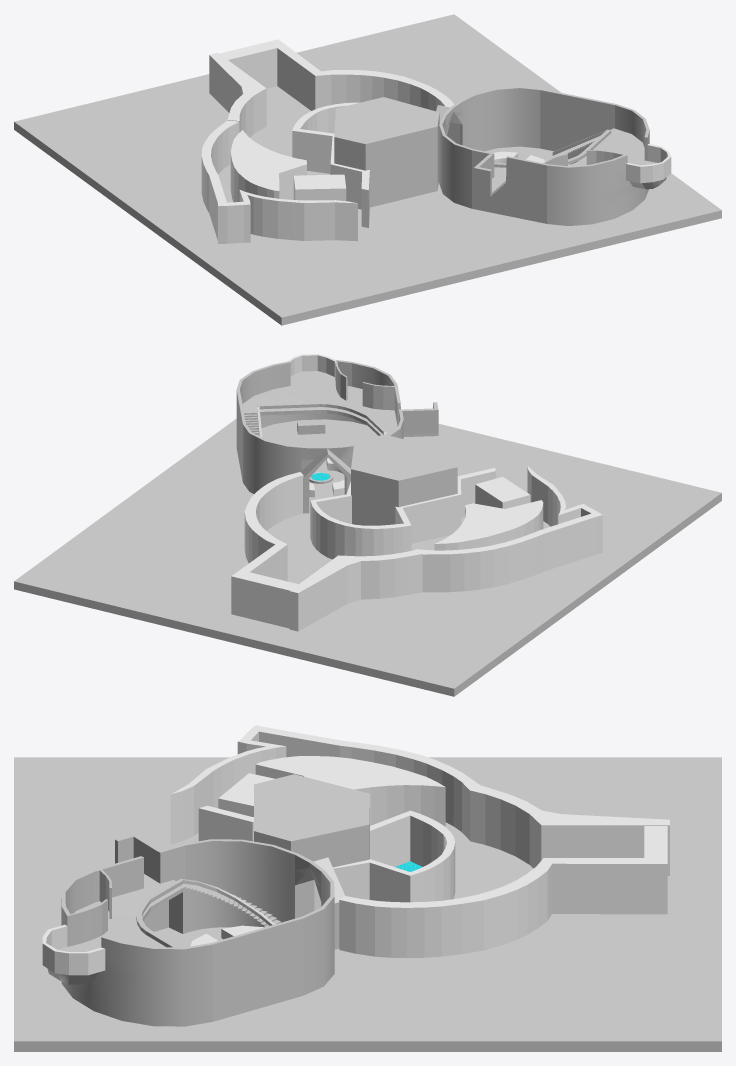
The model's file is NEW Map Greybox.fbx.
3 renders of one model, top to bottom at view 1: azimuth 30°, elevation 25°; view 2: azimuth 150°, elevation 25°; view 3: azimuth 270°, elevation 25°, orthographic. The views are drawn at different scales.
Visible parts, largest first — view 1: Floor, Cathedral_Form, Facility, Outer_Mail_Area, West_Entrance, Mail_Block, East_Center_Area, East_Entrance, Entrance, Mail_Room, Balcony_Railway, Cathedral_Elevator; view 2: Floor, Cathedral_Form, Outer_Mail_Area, Facility, East_Entrance, East_Center_Area, West_Entrance, Mail_Block, Entrance, West_Center_Area, Mail_Room, Cathedral_Elevator (+3 smaller); view 3: Floor, Cathedral_Form, West_Entrance, Outer_Mail_Area, East_Entrance, Facility, Mail_Block, East_Center_Area, West_Center_Area, Curved_Stairs, Balcony_Railway, Cathedral_Elevator (+4 smaller).
Boxes of the visible parts, left/top/right/bottom form: Floor: left=14, top=14, right=721, bottom=325; Cathedral_Form: left=436, top=86, right=666, bottom=225; Facility: left=334, top=97, right=439, bottom=207; Outer_Mail_Area: left=201, top=120, right=357, bottom=243; West_Entrance: left=269, top=39, right=454, bottom=111; Mail_Block: left=230, top=130, right=306, bottom=202; East_Center_Area: left=292, top=109, right=369, bottom=227; East_Entrance: left=209, top=52, right=266, bottom=137; Entrance: left=219, top=40, right=283, bottom=88; Mail_Room: left=293, top=174, right=346, bottom=200; Balcony_Railway: left=626, top=144, right=671, bottom=183; Cathedral_Elevator: left=473, top=154, right=505, bottom=196; Floor: left=14, top=418, right=721, bottom=696; Cathedral_Form: left=236, top=360, right=403, bottom=513; Outer_Mail_Area: left=420, top=465, right=602, bottom=592; Facility: left=351, top=434, right=457, bottom=525; East_Entrance: left=289, top=549, right=422, bottom=631; East_Center_Area: left=355, top=468, right=495, bottom=556; West_Entrance: left=231, top=472, right=303, bottom=614; Mail_Block: left=434, top=500, right=543, bottom=550; Entrance: left=234, top=570, right=298, bottom=628; West_Center_Area: left=310, top=481, right=351, bottom=559; Mail_Room: left=475, top=477, right=530, bottom=508; Cathedral_Elevator: left=402, top=402, right=438, bottom=436; Floor: left=14, top=757, right=721, bottom=1051; Cathedral_Form: left=47, top=839, right=344, bottom=1026; West_Entrance: left=339, top=858, right=667, bottom=958; Outer_Mail_Area: left=170, top=725, right=480, bottom=844; East_Entrance: left=470, top=785, right=669, bottom=875; Facility: left=254, top=774, right=369, bottom=867; Mail_Block: left=255, top=756, right=445, bottom=826; East_Center_Area: left=198, top=805, right=452, bottom=866; West_Center_Area: left=314, top=849, right=453, bottom=910; Curved_Stairs: left=169, top=880, right=280, bottom=933; Balcony_Railway: left=42, top=924, right=105, bottom=975; Cathedral_Elevator: left=115, top=833, right=161, bottom=885.
Size of what is drawn, in the model's own units: 15758 by 2481 by 16597.
Materials: 4 (2 with a texture image).
